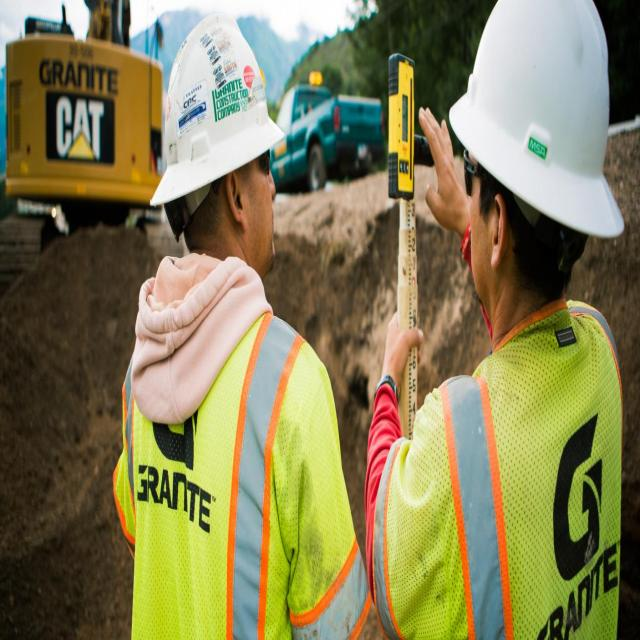Reflective-Jacket: (112, 259, 366, 640), (367, 302, 625, 640)
Safety-Helmet: (448, 4, 628, 246), (145, 8, 286, 216)
